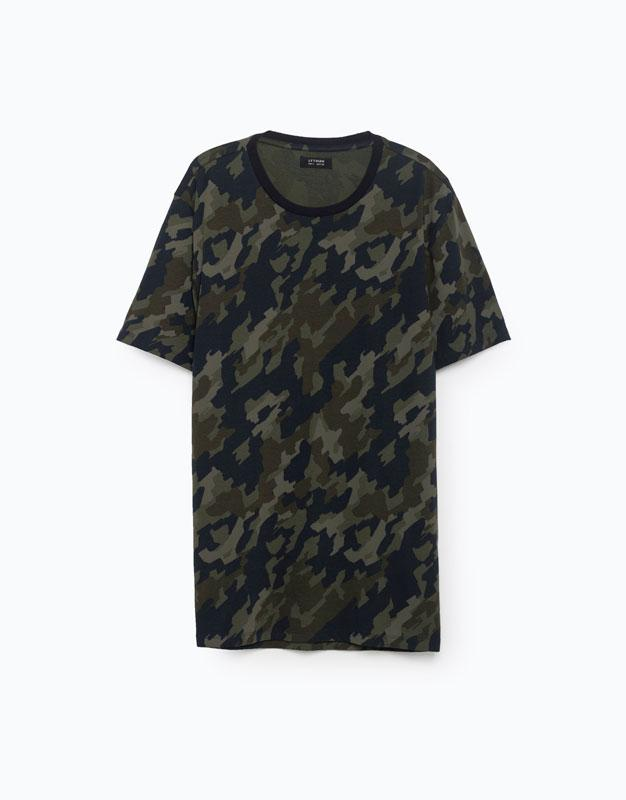teeshirt: (116, 122, 527, 657)
